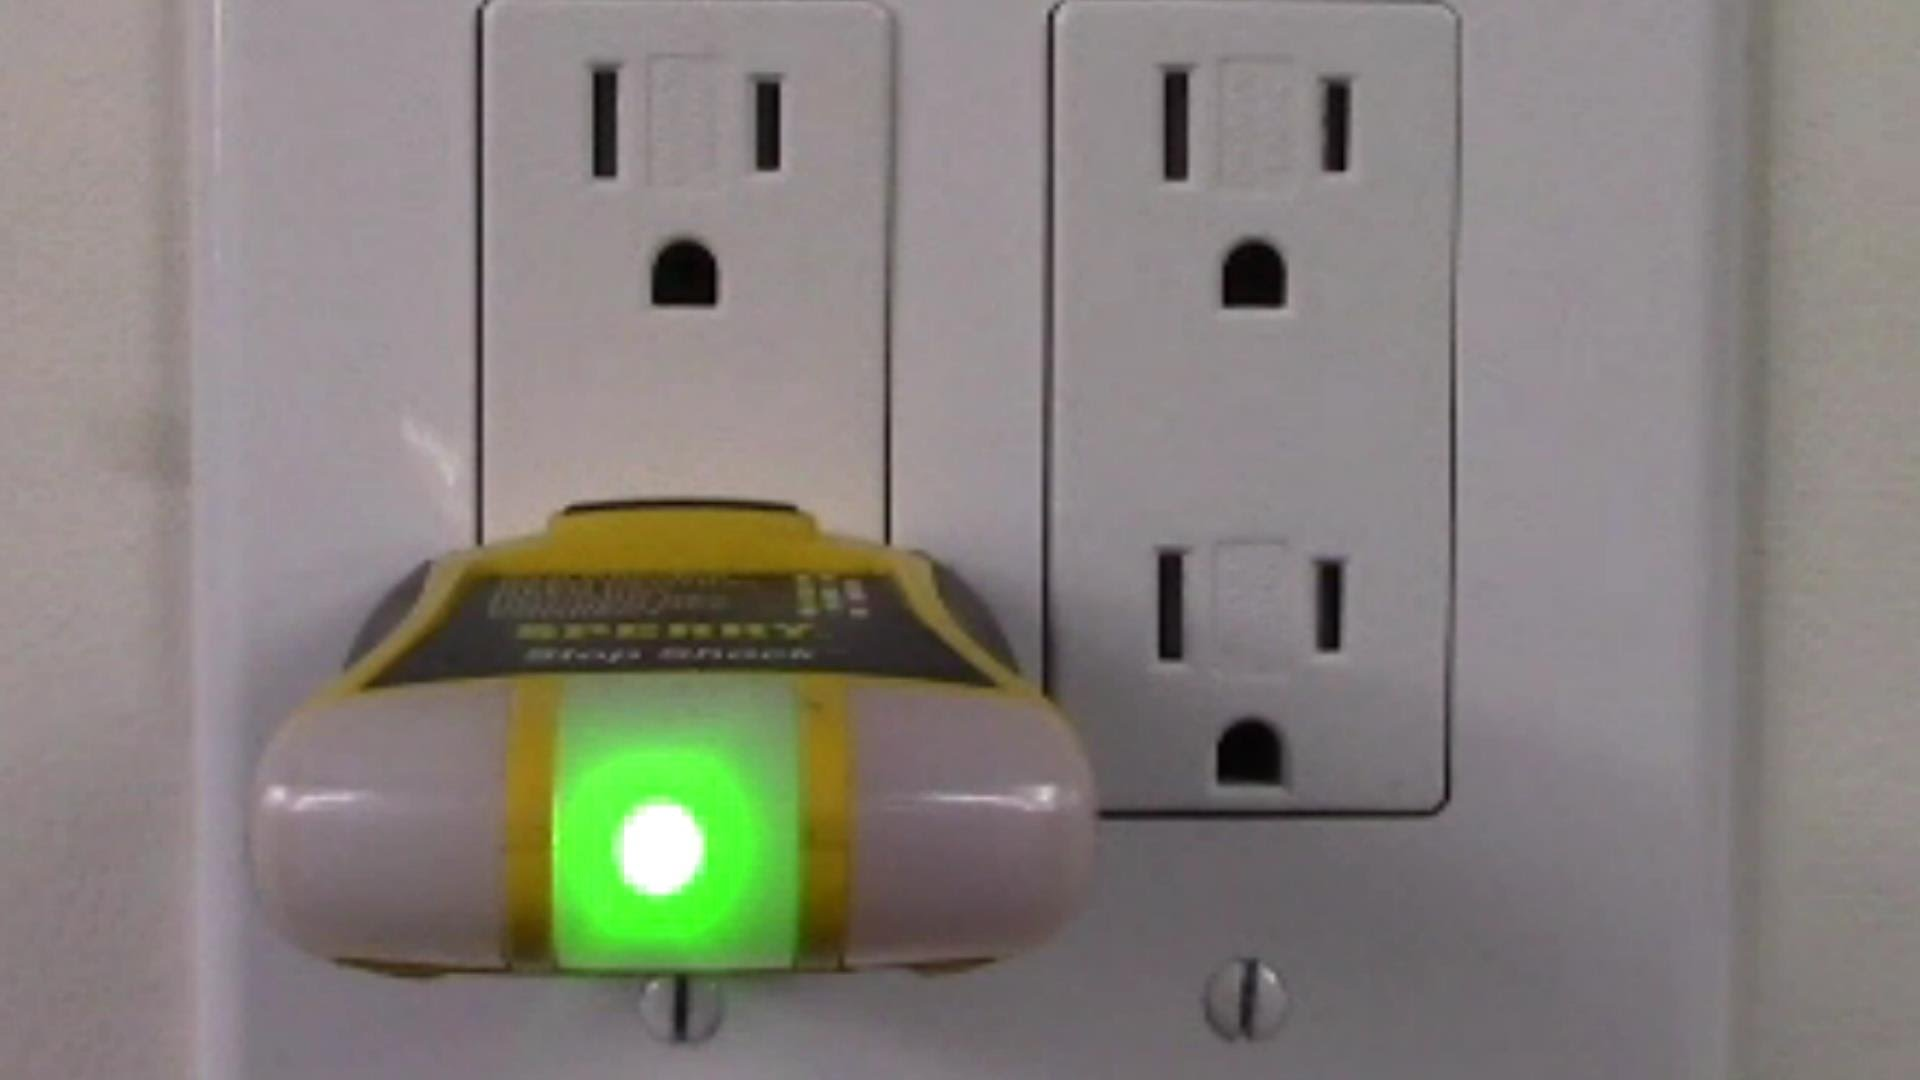outlet: (567, 44, 800, 320), (1138, 44, 1365, 327), (1131, 537, 1364, 799)
